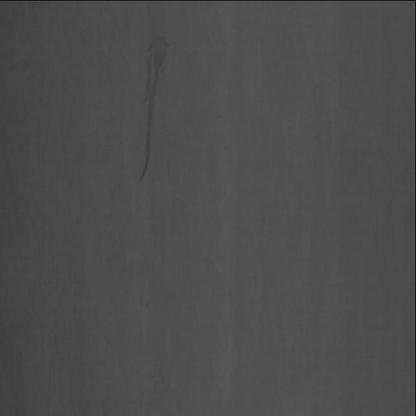water_spot: (123, 27, 175, 186)
